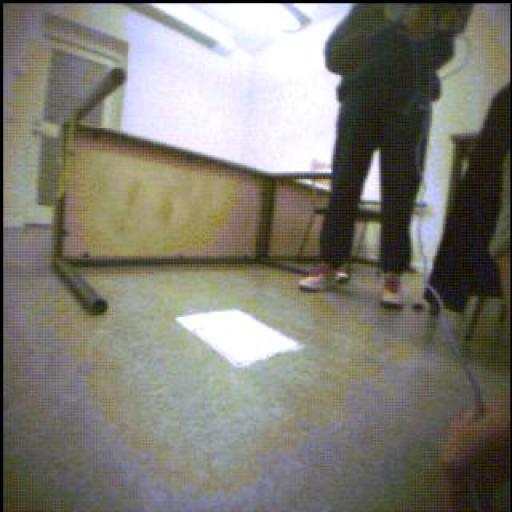Pad: (177, 311, 303, 369)
